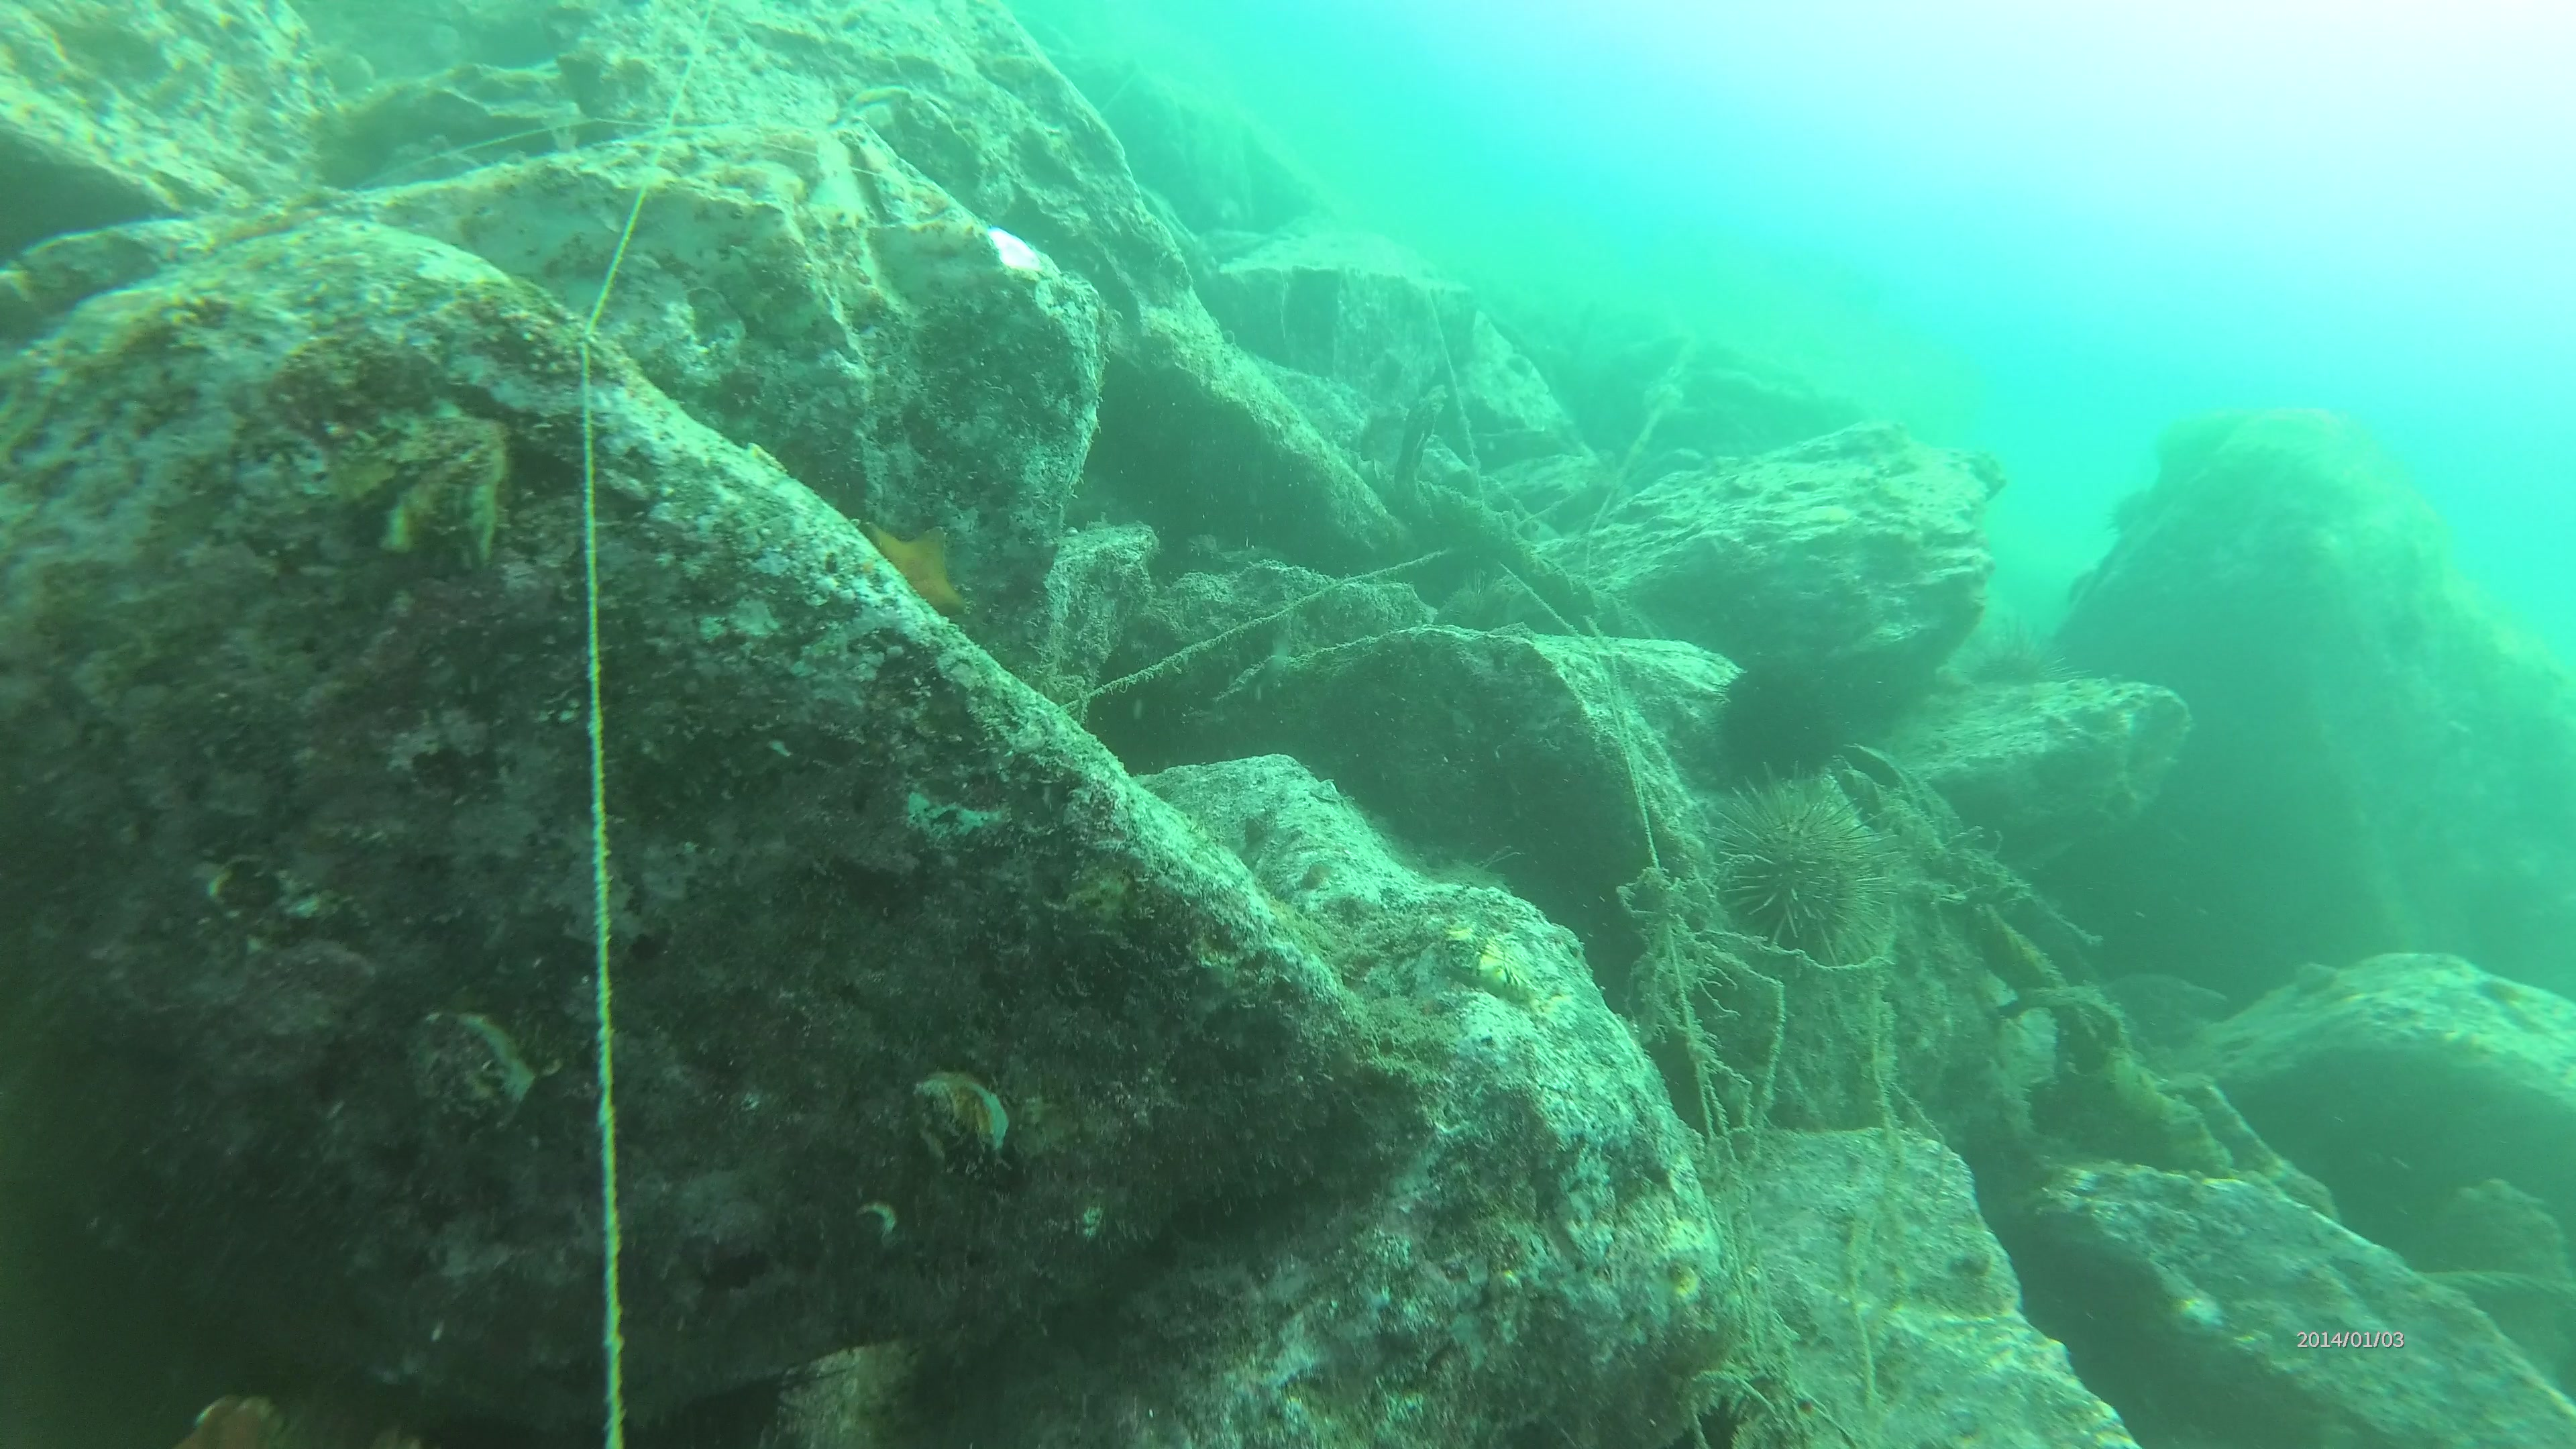echinus: (1709, 777, 1877, 950), (1723, 669, 1831, 768)
starfish: (853, 511, 984, 625)
